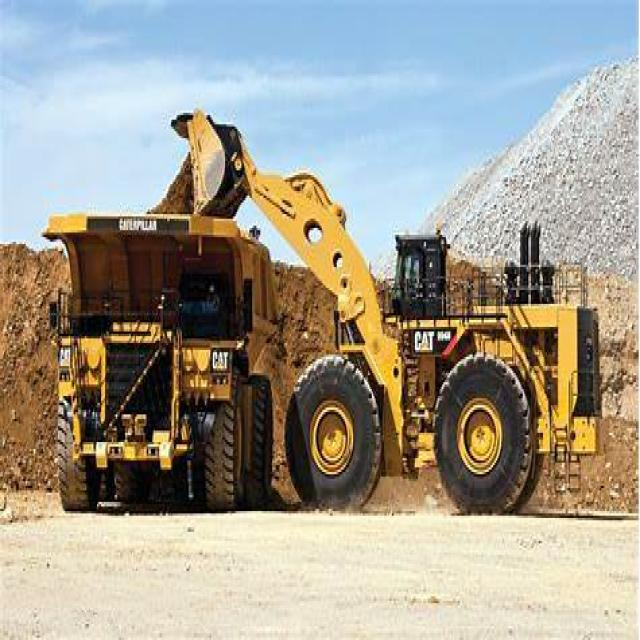buldozerpayloadergrader: (172, 83, 614, 516)
dump_truck: (47, 200, 271, 509)
